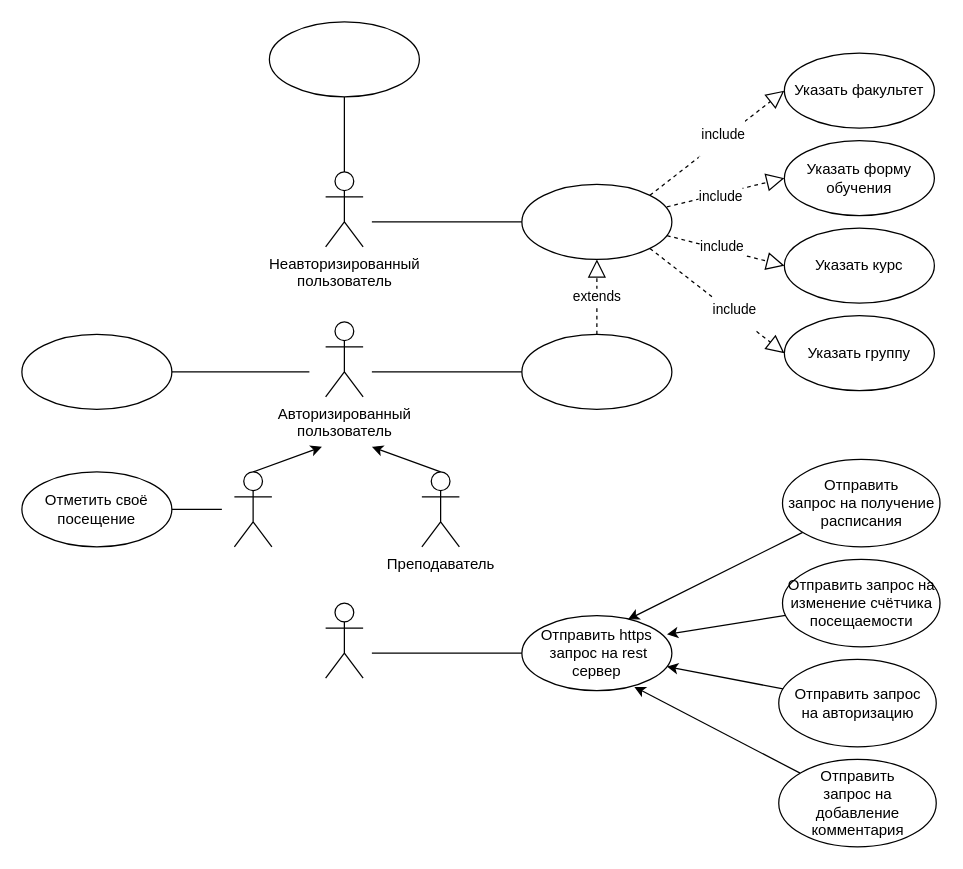
Image size: 963x869. Some labels were removed from this diagram. The centre of each missing label's shape, as x and y in pixels:
"Авторизироваться" belongs at (343,59).
"Клиент приложение" belongs at (343,640).
"Оставить комментарий к расписанию" belongs at (96,371).
"Получить расписание" belongs at (596,371).
"Студент" belongs at (252,509).
"Указать какое расписание нужно получить" belongs at (596,221).
